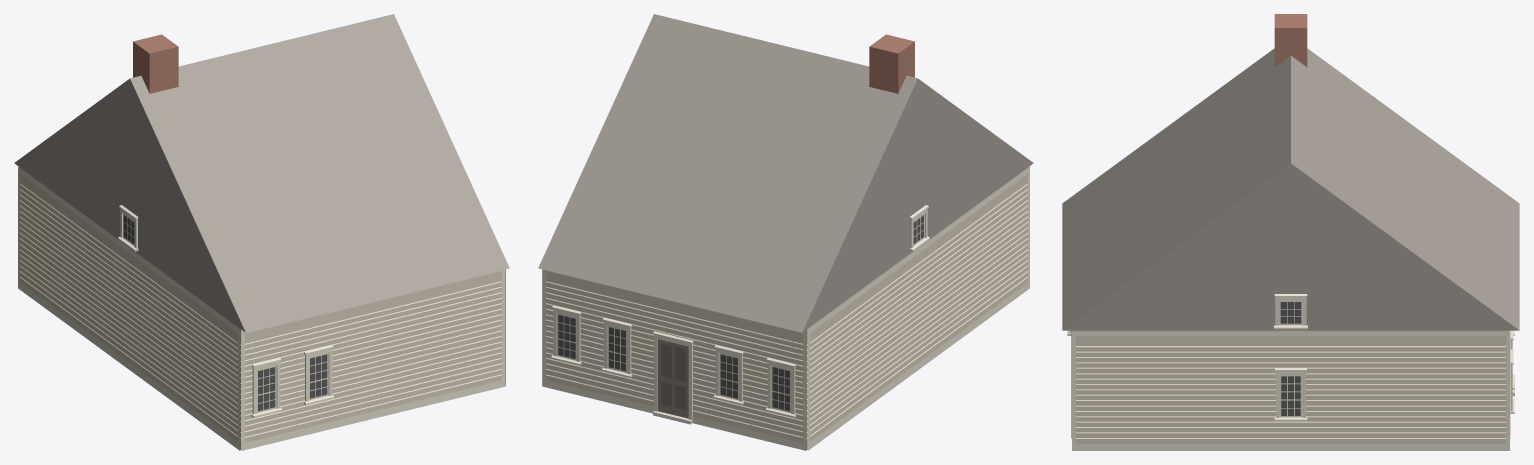
File: recon_1835_blk_randolph_clark_h1_03__inferred_1835.glb
3 renders of one model, left to right at view 1: azimuth 30°, elevation 25°; view 2: azimuth 150°, elevation 25°; view 3: azimuth 270°, elevation 25°, orthographic.
Parts seen in each view (by area): view 1: recon_1835_blk_randolph_clark_h1_03__inferred_1835; view 2: recon_1835_blk_randolph_clark_h1_03__inferred_1835; view 3: recon_1835_blk_randolph_clark_h1_03__inferred_1835.
Part boxes in pixels (left/top/right/bottom): recon_1835_blk_randolph_clark_h1_03__inferred_1835: left=14, top=14, right=509, bottom=450; recon_1835_blk_randolph_clark_h1_03__inferred_1835: left=538, top=14, right=1033, bottom=450; recon_1835_blk_randolph_clark_h1_03__inferred_1835: left=1062, top=14, right=1519, bottom=450.
Bounding box in the file's own units: 7.91 × 8.86 × 11.68.
